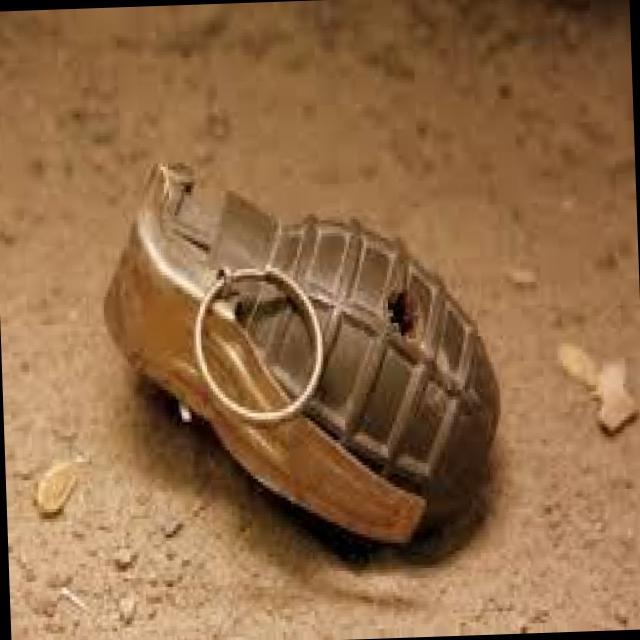grenade: (109, 142, 506, 548)
